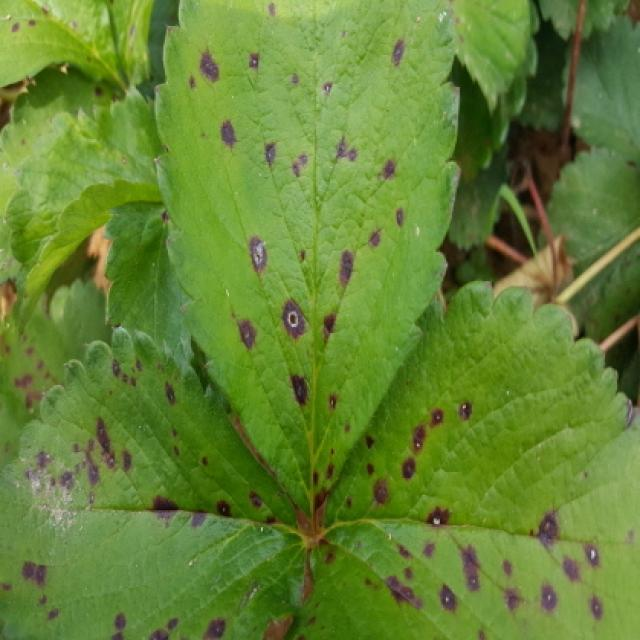Leaf Spot: (151, 0, 463, 532), (283, 281, 640, 638), (2, 327, 313, 638), (2, 62, 128, 231), (2, 279, 104, 460), (100, 198, 194, 370), (2, 0, 133, 89)
